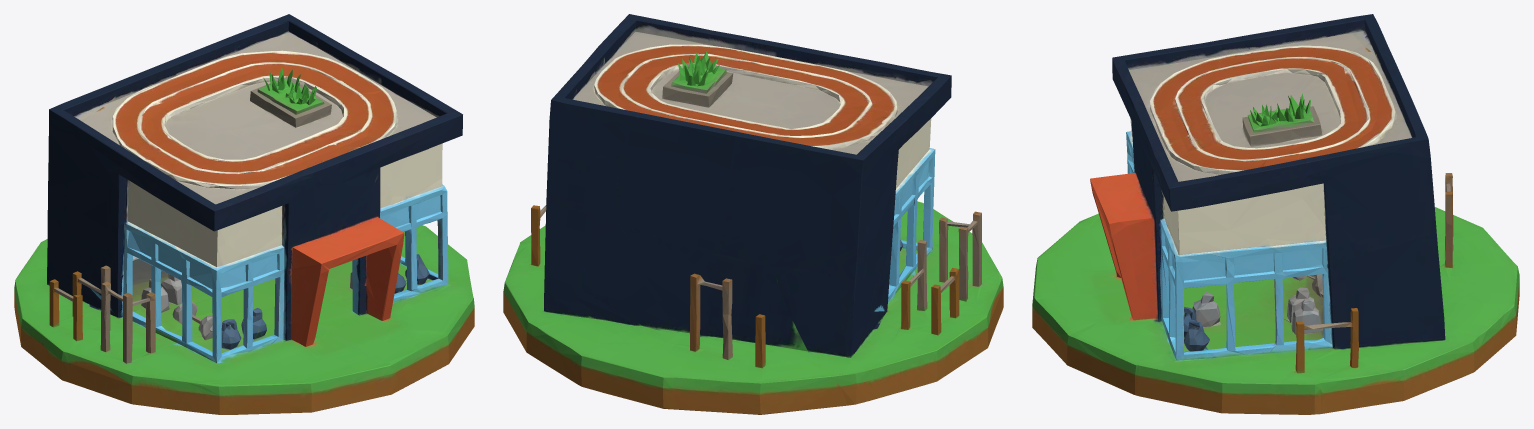
File: rio-academia-grande.glb
3 renders of one model, left to right at view 1: azimuth 30°, elevation 25°; view 2: azimuth 150°, elevation 25°; view 3: azimuth 270°, elevation 25°, orthographic. The views are drawn at different scales.
Visible parts, largest first — view 1: tripo_node_ad3ebce6-e739-4aab-878a-a2dc7e63b368; view 2: tripo_node_ad3ebce6-e739-4aab-878a-a2dc7e63b368; view 3: tripo_node_ad3ebce6-e739-4aab-878a-a2dc7e63b368.
Part boxes in pixels (box(x1,y1,x2,y2)): tripo_node_ad3ebce6-e739-4aab-878a-a2dc7e63b368: box(14, 14, 474, 414); tripo_node_ad3ebce6-e739-4aab-878a-a2dc7e63b368: box(503, 14, 1003, 414); tripo_node_ad3ebce6-e739-4aab-878a-a2dc7e63b368: box(1032, 14, 1519, 414).
Bounding box in the file's own units: 0.9998 × 0.5455 × 0.9975.
Materials: 1 (1 with a texture image).
